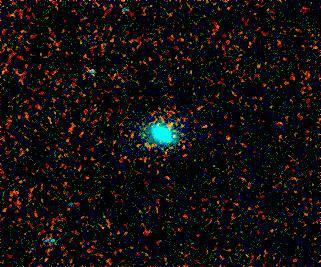star: (158, 109, 188, 139)
